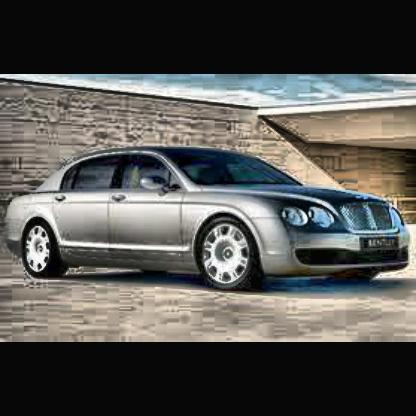Bentley Continental Flying Spur Sedan 2007: (2, 144, 416, 296)
